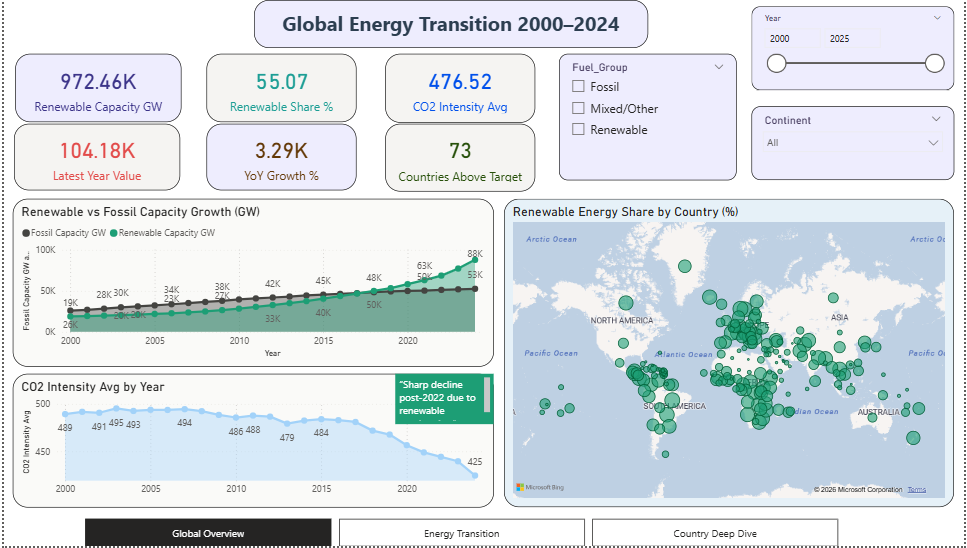

Layout of this report page (visuals, bound fields, positions):
{"tool":"powerbi","page":{"name":"Global Overview","canvas":[1280,729],"ordinal":0},"visuals":[{"type":"card","fields":{"Values":["Table.Renewable Capacity GW"]},"box":[14.3,71.4,221.4,91.4],"z":0},{"type":"card","fields":{"Values":["Table.Renewable Share %"]},"box":[270,71.4,200,91.4],"z":1000},{"type":"card","fields":{"Values":["Table.Latest Year Value"]},"box":[12.9,165.7,221.4,88.6],"z":2000},{"type":"card","fields":{"Values":["Table.YoY Growth %"]},"box":[270,165.7,200,88.6],"z":3000},{"type":"card","fields":{"Values":["Table.Countries Above Target"]},"box":[508.3,165,200,90],"z":4000},{"type":"map","title":"Renewable Energy Share by Country (%)","fields":{"Category":["Dim Geography.ISO3"],"Size":["Table.Renewable Share %"]},"box":[667.1,265.7,600,411.4],"z":5000},{"type":"lineChart","title":"Renewable vs Fossil Capacity Growth (GW)","fields":{"Category":["Dim Date.Year"],"Y":["Table.Fossil Capacity GW","Table.Renewable Capacity GW"]},"box":[11.4,265.7,641.4,224.3],"z":6000},{"type":"slicer","fields":{"Values":["Dim Date.Year"]},"box":[996.7,8.3,270,111.7],"z":7000},{"type":"slicer","fields":{"Values":["Dim Geography.Continent"]},"box":[996.7,141.7,270,98.3],"z":8000},{"type":"slicer","fields":{"Values":["Dim Fuel Type.Fuel_Group"]},"box":[740,71.4,237.1,168.6],"z":9000},{"type":"pageNavigator","box":[108.6,691.4,1005.7,37.1],"z":10000},{"type":"textbox","box":[332.9,0,525.7,64.3],"z":11000},{"type":"lineChart","fields":{"Category":["Dim Date.Year"],"Y":["Table.CO2 Intensity Avg"]},"box":[11.4,498.6,641.4,178.6],"z":12000},{"type":"textbox","box":[521.4,498.6,131.4,67.1],"z":13000},{"type":"card","fields":{"Values":["Table.CO2 Intensity Avg"]},"box":[508.3,71.7,200,91.7],"z":13001}]}

Visuals, with their boxes in screenshot pixels (x1, y1, x2, y2), scaled from the page's 1280x729 canvas onto the 967x548 screenshot:
card - Table.Renewable Capacity GW: (left=11, top=54, right=178, bottom=122)
card - Table.Renewable Share %: (left=204, top=54, right=355, bottom=122)
card - Table.Latest Year Value: (left=10, top=125, right=177, bottom=191)
card - Table.YoY Growth %: (left=204, top=125, right=355, bottom=191)
card - Table.Countries Above Target: (left=384, top=124, right=535, bottom=192)
"Renewable Energy Share by Country (%)" map: (left=504, top=200, right=957, bottom=509)
"Renewable vs Fossil Capacity Growth (GW)" lineChart: (left=9, top=200, right=493, bottom=368)
slicer - Dim Date.Year: (left=753, top=6, right=957, bottom=90)
slicer - Dim Geography.Continent: (left=753, top=107, right=957, bottom=180)
slicer - Dim Fuel Type.Fuel_Group: (left=559, top=54, right=738, bottom=180)
pageNavigator: (left=82, top=520, right=842, bottom=547)
textbox: (left=251, top=0, right=649, bottom=48)
lineChart - Dim Date.Year x Table.CO2 Intensity Avg: (left=9, top=375, right=493, bottom=509)
textbox: (left=394, top=375, right=493, bottom=425)
card - Table.CO2 Intensity Avg: (left=384, top=54, right=535, bottom=123)
